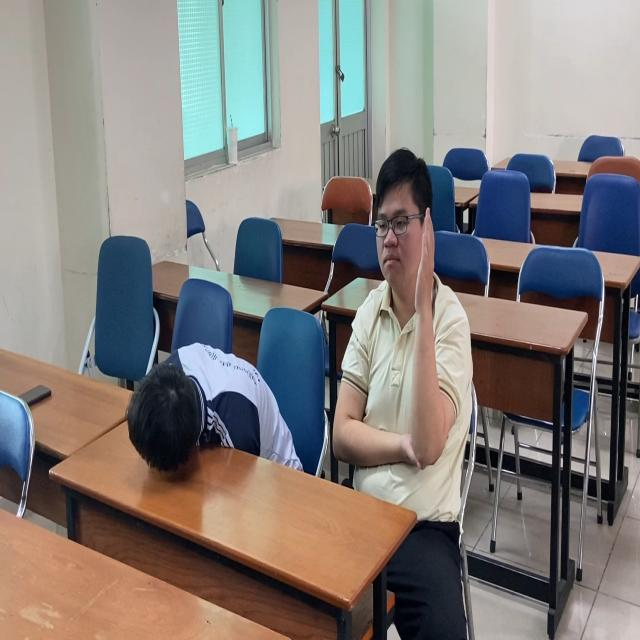raise_hand: (327, 141, 475, 550)
sleep: (116, 323, 308, 493)
